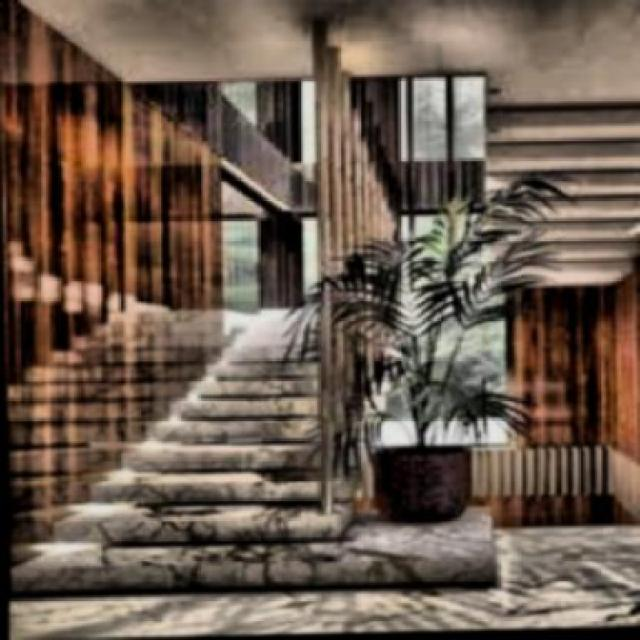stair: (4, 300, 342, 591)
